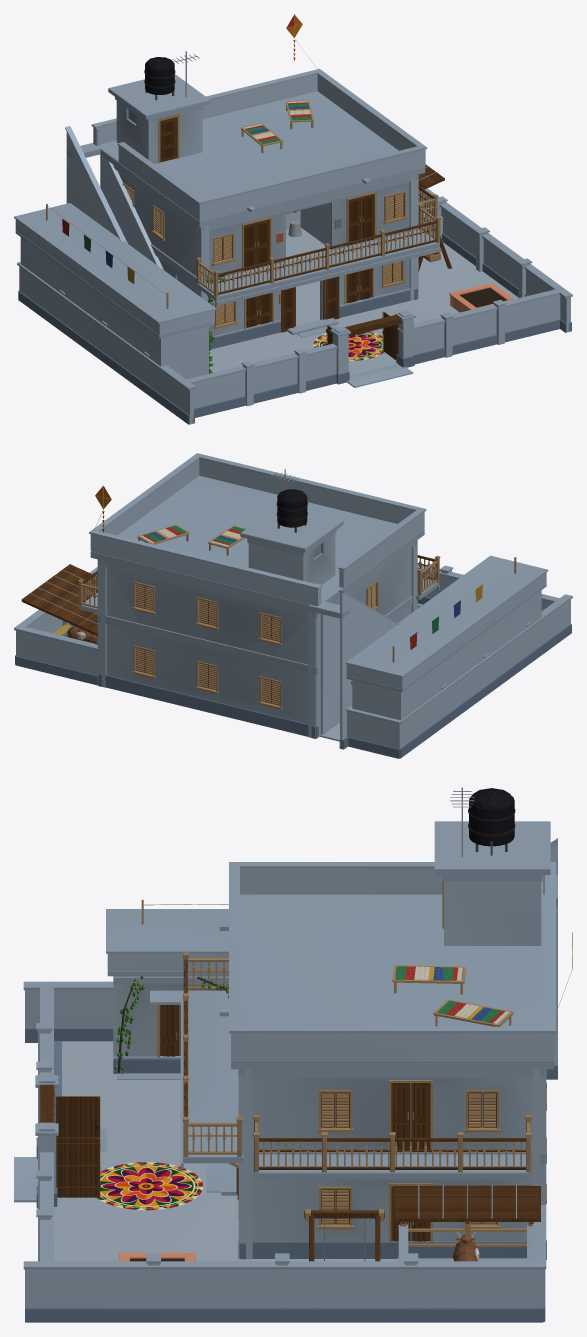
File: house_compound.glb
3 views of the same model, one above another, from view 1: azimuth 30°, elevation 25°; view 2: azimuth 150°, elevation 25°; view 3: azimuth 270°, elevation 25° (orthographic). The views are drawn at different scales.
Parts seen in each view (by area): view 1: hb_main, hb_props, rangoli, hb_brick; view 2: hb_main, hb_props; view 3: hb_main, hb_props, rangoli.
Boxes of the visible parts, left/top/right/bottom form: hb_main: left=14, top=14, right=572, bottom=424; hb_props: left=46, top=100, right=451, bottom=359; rangoli: left=313, top=331, right=384, bottom=360; hb_brick: left=449, top=283, right=514, bottom=312; hb_main: left=14, top=453, right=572, bottom=758; hb_props: left=21, top=524, right=516, bottom=709; hb_main: left=14, top=787, right=572, bottom=1322; hb_props: left=39, top=881, right=546, bottom=1261; rangoli: left=96, top=1162, right=203, bottom=1210.
Bounding box in the file's own units: 18.5 × 10.78 × 15.21.
4 materials, 1 textured.
